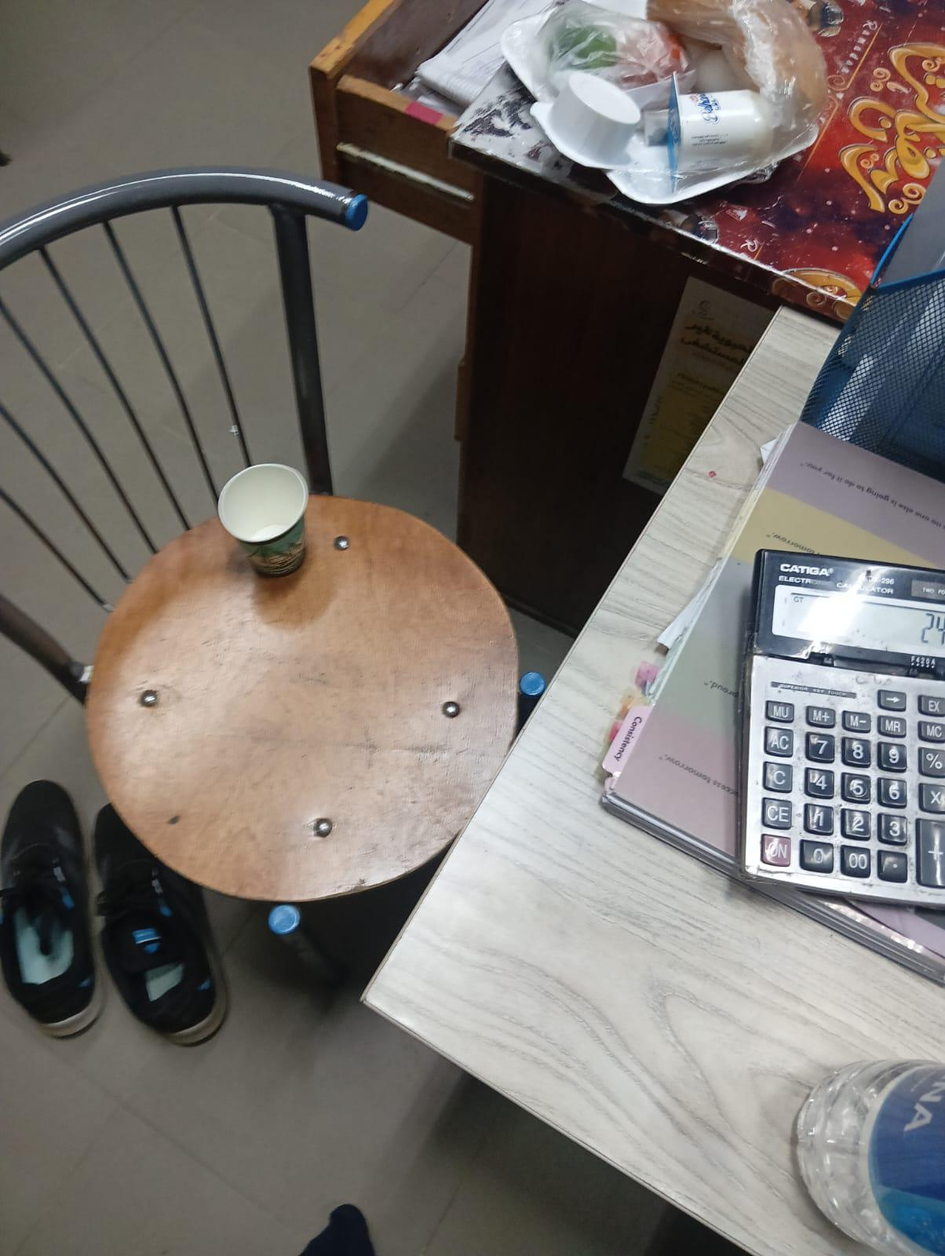cup: (218, 464, 308, 575), (539, 71, 640, 168), (668, 90, 772, 171)
